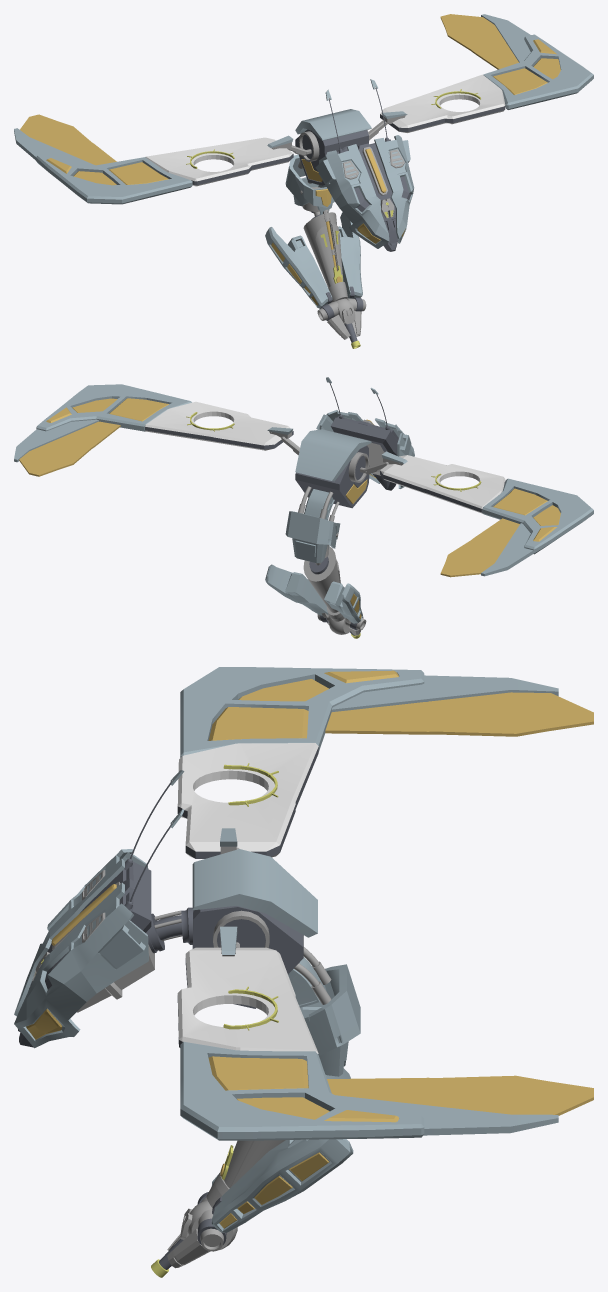
Rendered from Wasp.fbx.
The picture shows the model from 3 angles, top to bottom: view 1: azimuth 30°, elevation 25°; view 2: azimuth 150°, elevation 25°; view 3: azimuth 270°, elevation 25°; orthographic projection. The views are drawn at different scales.
Parts seen in each view (by area): view 1: geo1_Head_geo_Ass02_polySurface22; view 2: geo1_Head_geo_Ass02_polySurface22; view 3: geo1_Head_geo_Ass02_polySurface22.
Boxes of the visible parts, x1=… form: geo1_Head_geo_Ass02_polySurface22: x1=14, y1=14, x2=593, y2=348; geo1_Head_geo_Ass02_polySurface22: x1=14, y1=377, x2=593, y2=638; geo1_Head_geo_Ass02_polySurface22: x1=14, y1=667, x2=593, y2=1277.
Size of the model in its own units: 307 by 150 by 162.
